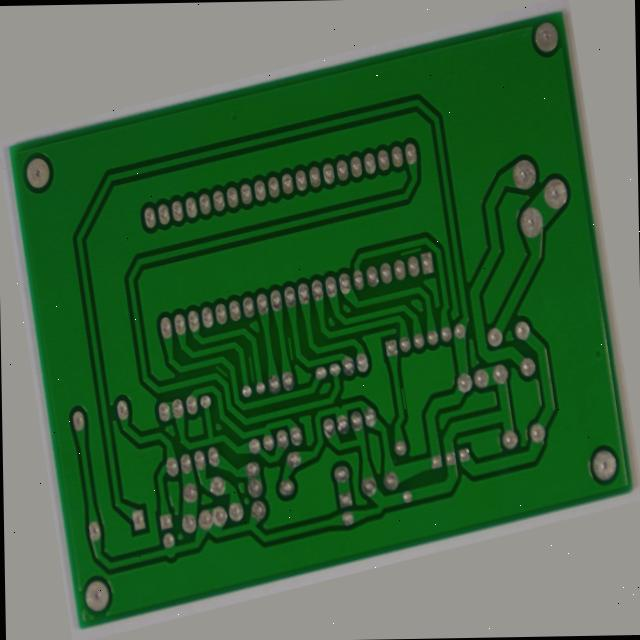spurious_copper: (392, 422, 408, 463), (276, 328, 291, 366), (232, 341, 245, 382), (197, 340, 215, 367), (413, 254, 443, 270)
